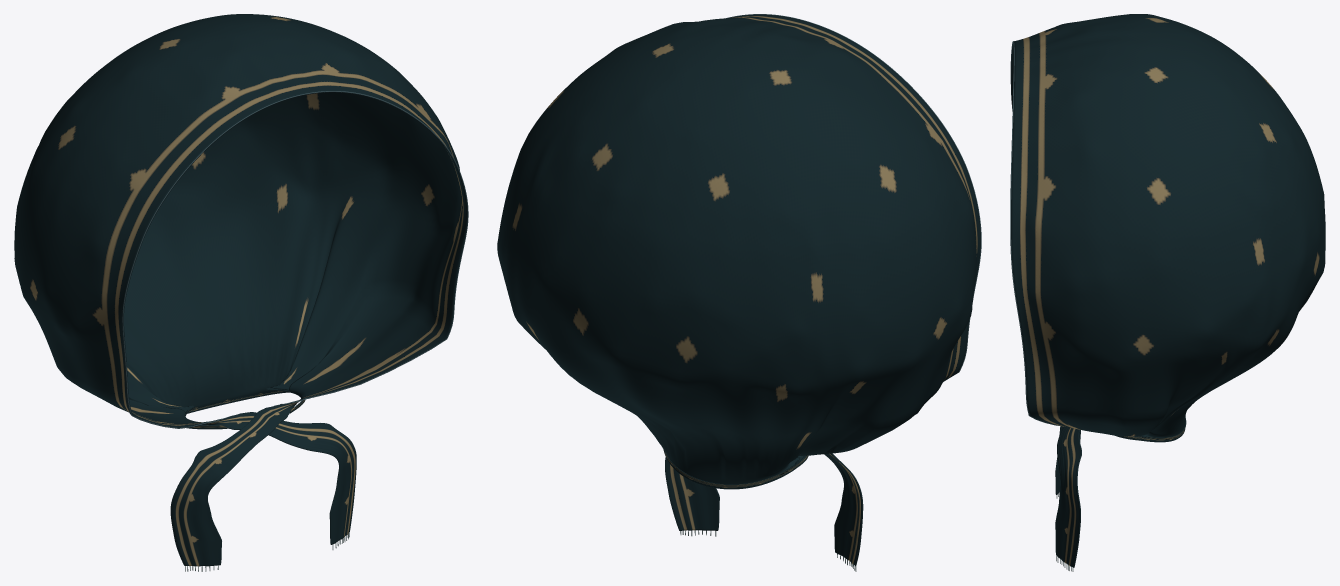
File: Masculine-afro-tshirt-pashmina249-headgear.glb
3 views of the same model, side by side, from view 1: azimuth 30°, elevation 25°; view 2: azimuth 150°, elevation 25°; view 3: azimuth 270°, elevation 25° (orthographic). The views are drawn at different scales.
Visible parts, largest first — view 1: 226 headgear / Headwear / continuous woven pashmina239, 226 headgear / Headwear / face edge239; view 2: 226 headgear / Headwear / continuous woven pashmina239, 226 headgear / Headwear / face edge239; view 3: 226 headgear / Headwear / continuous woven pashmina239, 226 headgear / Headwear / face edge239.
Part boxes in pixels (x1,y1,x2,y2): 226 headgear / Headwear / continuous woven pashmina239: (14, 14, 467, 566); 226 headgear / Headwear / face edge239: (122, 91, 468, 428); 226 headgear / Headwear / continuous woven pashmina239: (497, 14, 980, 566); 226 headgear / Headwear / face edge239: (726, 14, 981, 381); 226 headgear / Headwear / continuous woven pashmina239: (1011, 14, 1325, 567); 226 headgear / Headwear / face edge239: (1010, 41, 1059, 425).
Bounding box in the file's own units: 1.24 × 1.5 × 0.8609.
Materials: 3 (1 with a texture image).
